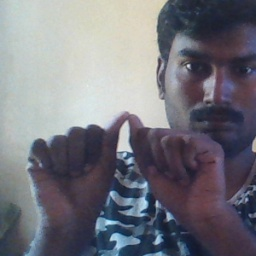A: (47, 107, 199, 216)
